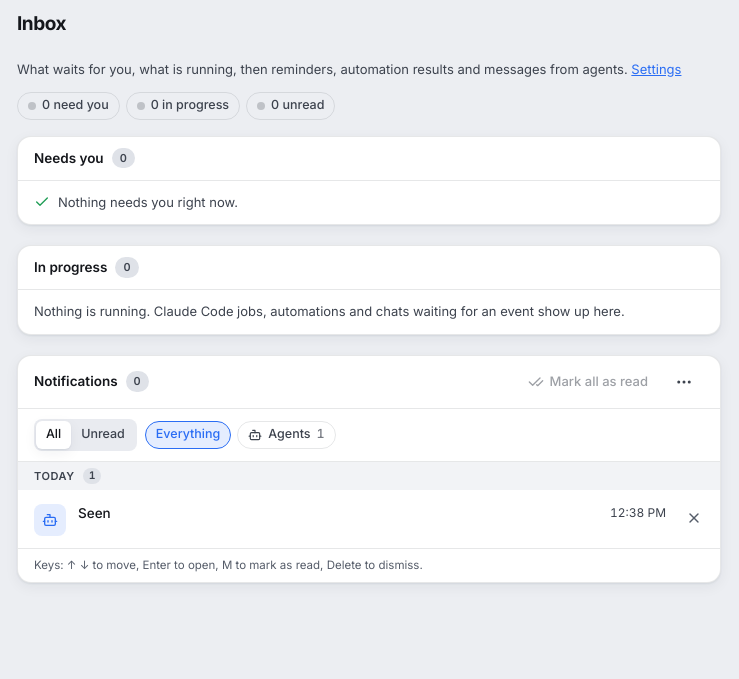
Test: the Inbox › says when a filter leaves nothing
Click the tab "Unread" at (103, 434), box [71,420,135,448]
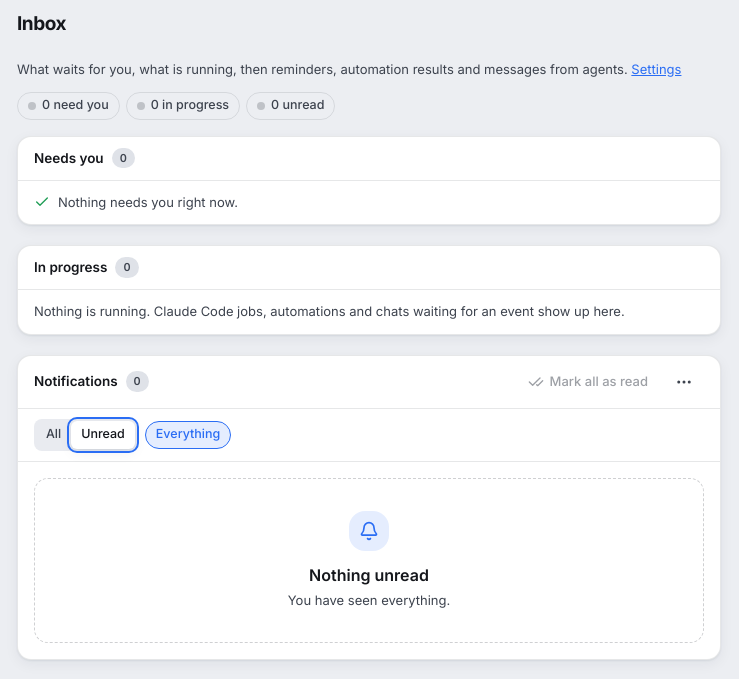
Expected: the element "Notifications" shows "Nothing unread", [309,564,429,584]
